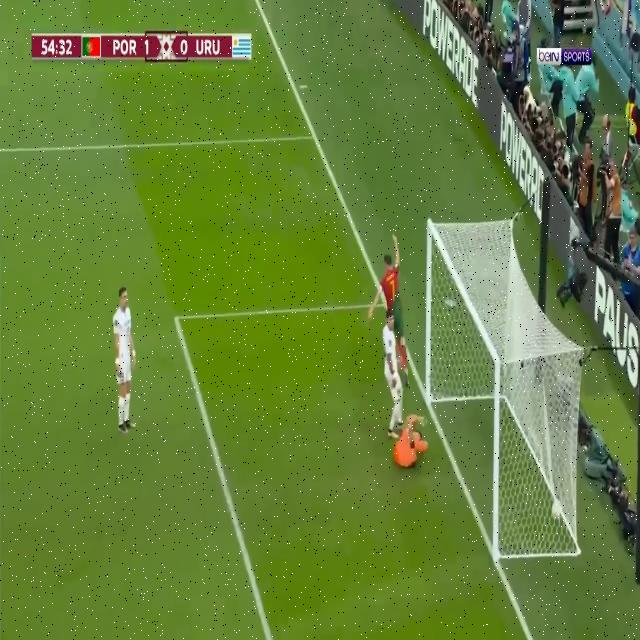Ball: (552, 500, 561, 520)
GoalKeeper: (392, 413, 430, 470)
TEAM 1: (369, 230, 410, 388)
TEAM 2: (108, 284, 141, 434), (382, 314, 402, 439)
